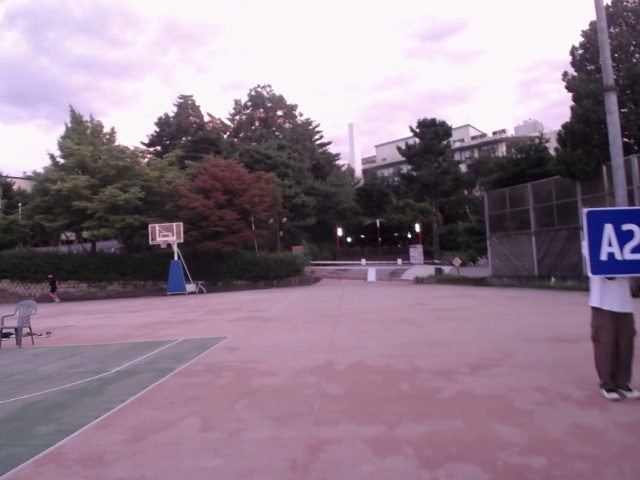delivery_a2: (585, 206, 639, 276)
